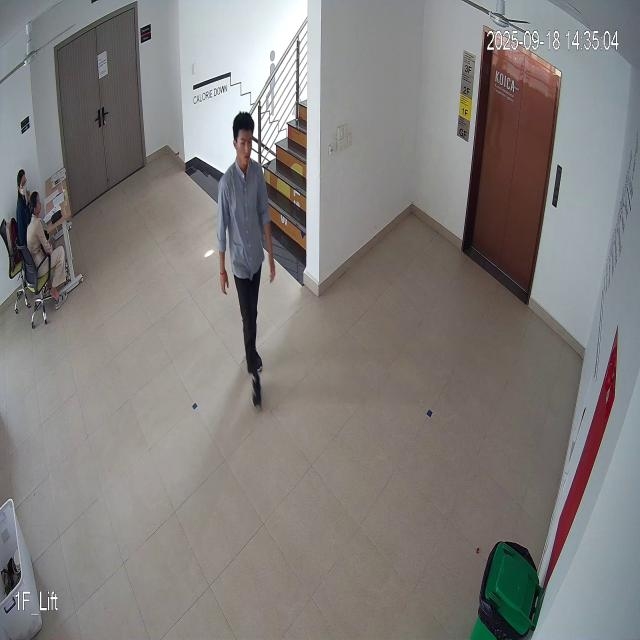face: (231, 110, 256, 169)
